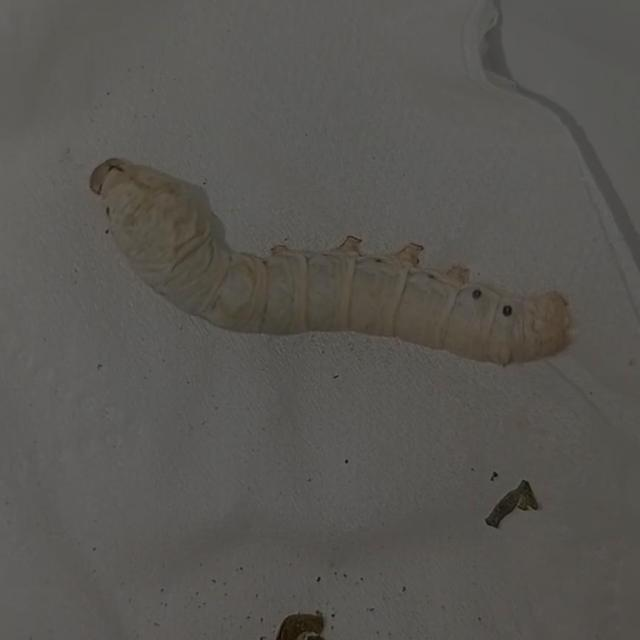Healthy: (76, 123, 592, 424)
